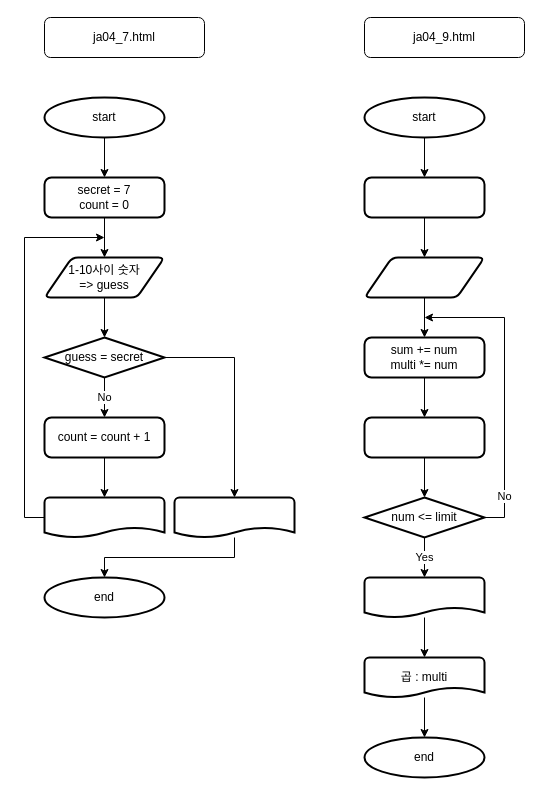
Some shapes in this 542 by 796 pixel diagram are drawn without their labels. The centre of each missing label's shape, as x and y in pixels:
count 번 만에 맞혔습니다.: pixel 234 517
limit, num, multi = 1 sum = 0: pixel 424 197
num = num + 1: pixel 424 437
숫자 => limit: pixel 424 277
입력한 값 : guess: pixel 104 517
합 : sum: pixel 424 597
